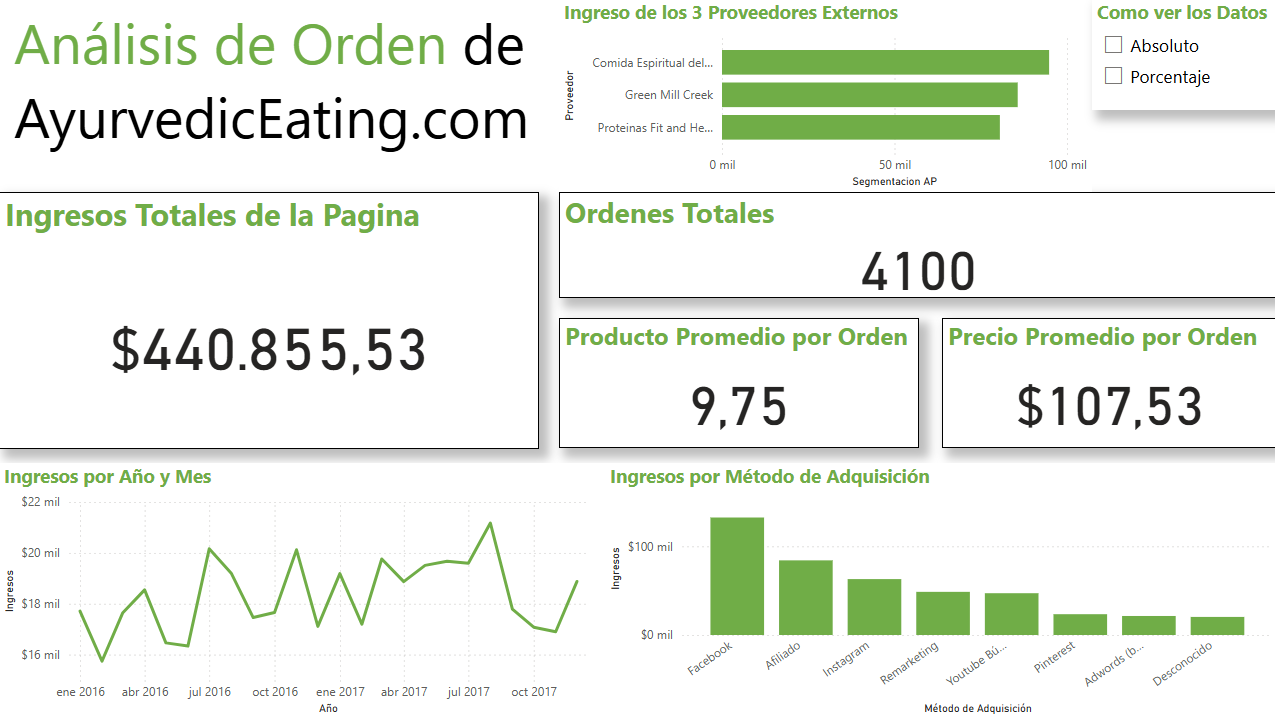

This screenshot's page, from the dashboard's own definition file:
{"tool":"powerbi","page":{"name":"Dashboard","canvas":[1280,720],"ordinal":0},"visuals":[{"type":"textbox","box":[11.4,0,530,192.9],"z":0},{"type":"card","title":"Ingresos Totales de la Pagina","fields":{"Values":["DetallesOrden.Ingresos"]},"box":[1.4,192.9,540,257.1],"z":1000},{"type":"card","title":"Ordenes Totales","fields":{"Values":["DetallesOrden.Ordenes Totales"]},"box":[561.4,192.9,718.6,105.7],"z":2000},{"type":"card","title":"Producto Promedio por Orden","fields":{"Values":["DetallesOrden.Productos Promedio por Orden"]},"box":[561.4,318.6,360,130],"z":3000},{"type":"card","title":"Precio Promedio por Orden","fields":{"Values":["DetallesOrden.Ingresos Promedio por Orden"]},"box":[944.3,318.6,335.7,130],"z":4000},{"type":"clusteredBarChart","title":"Ingreso de los 3 Proveedores Externos","fields":{"Category":["ListaProductos.Proveedor"],"Y":["DetallesOrden.Segmentacion AP"]},"box":[561.4,0,532.9,192.9],"z":5000},{"type":"slicer","title":"Como ver los Datos","fields":{"Values":["Escala.Escala"]},"box":[1094.3,0,185.7,111.4],"z":6000},{"type":"lineChart","fields":{"Y":["DetallesOrden.Ingresos"],"Category":["DetallesOrden.Fecha.Variación.Jerarquía de fechas.Año","DetallesOrden.Fecha.Variación.Jerarquía de fechas.Mes"]},"box":[1.4,464.3,605.7,255.7],"z":7000},{"type":"columnChart","fields":{"Y":["DetallesOrden.Ingresos"],"Category":["DetallesOrden.Método de Adquisición"]},"box":[607.1,464.3,672.9,255.7],"z":8000}]}

Visuals, with their boxes in screenshot pixels (x1, y1, x2, y2), scaled from the page's 1280x720 canvas onto the 1275x717 screenshot:
textbox: 11, 0, 539, 192
"Ingresos Totales de la Pagina" card: 1, 192, 539, 448
"Ordenes Totales" card: 559, 192, 1274, 297
"Producto Promedio por Orden" card: 559, 317, 918, 447
"Precio Promedio por Orden" card: 941, 317, 1274, 447
"Ingreso de los 3 Proveedores Externos" clusteredBarChart: 559, 0, 1090, 192
"Como ver los Datos" slicer: 1090, 0, 1274, 111
lineChart - DetallesOrden.Ingresos x DetallesOrden.Fecha.Variación.Jerarquía de fechas.Año: 1, 462, 605, 716
columnChart - DetallesOrden.Ingresos x DetallesOrden.Método de Adquisición: 605, 462, 1274, 716
